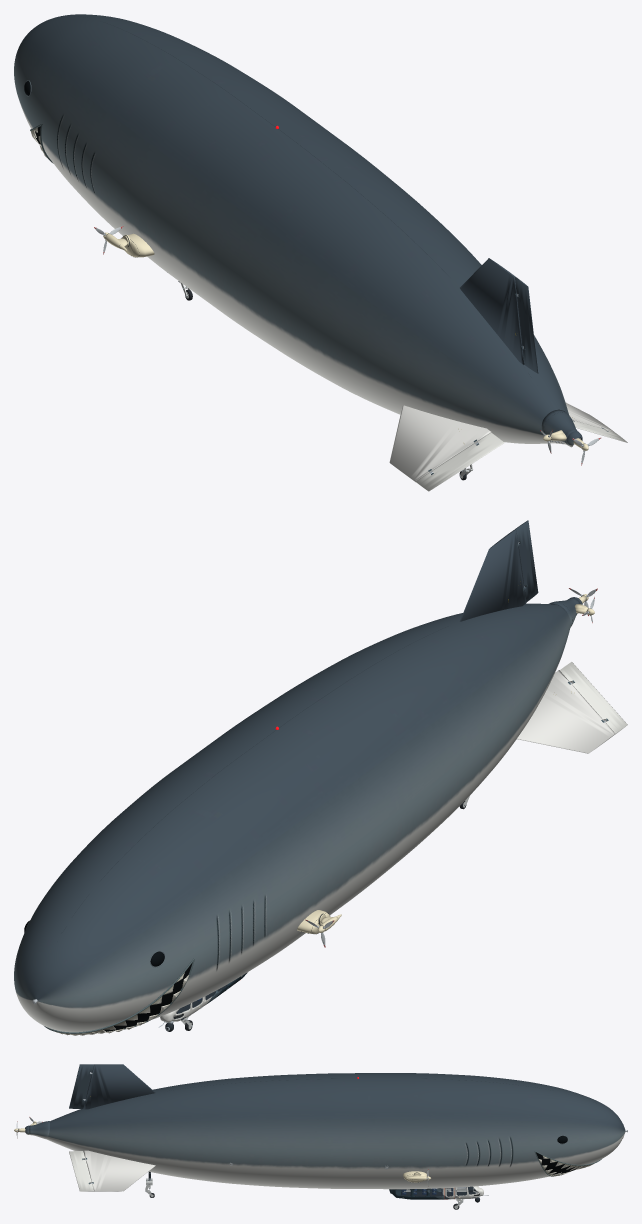
The model's file is tiburon-blanco.glb.
3 renders of one model, top to bottom at view 1: azimuth 30°, elevation 25°; view 2: azimuth 150°, elevation 25°; view 3: azimuth 270°, elevation 25°, orthographic. The views are drawn at different scales.
Parts seen in each view (by area): view 1: airship_mesh, fin_port_hinge_mesh, rudder_dorsal_hinge_mesh; view 2: airship_mesh, fin_port_hinge_mesh, rudder_dorsal_hinge_mesh; view 3: airship_mesh, rudder_dorsal_hinge_mesh, fin_starboard_hinge_mesh.
Part boxes in pixels (x1,y1,x2,y2): airship_mesh: (14,14,614,482); fin_port_hinge_mesh: (416,432,504,491); rudder_dorsal_hinge_mesh: (515,277,538,373); airship_mesh: (14,529,615,1035); fin_port_hinge_mesh: (559,662,627,734); rudder_dorsal_hinge_mesh: (515,520,538,601); airship_mesh: (25,1064,627,1209); rudder_dorsal_hinge_mesh: (69,1064,93,1108); fin_starboard_hinge_mesh: (69,1151,94,1191).
Size of the model in its own units: 1.31 by 1.35 by 5.17.
39 materials, 4 textured.
